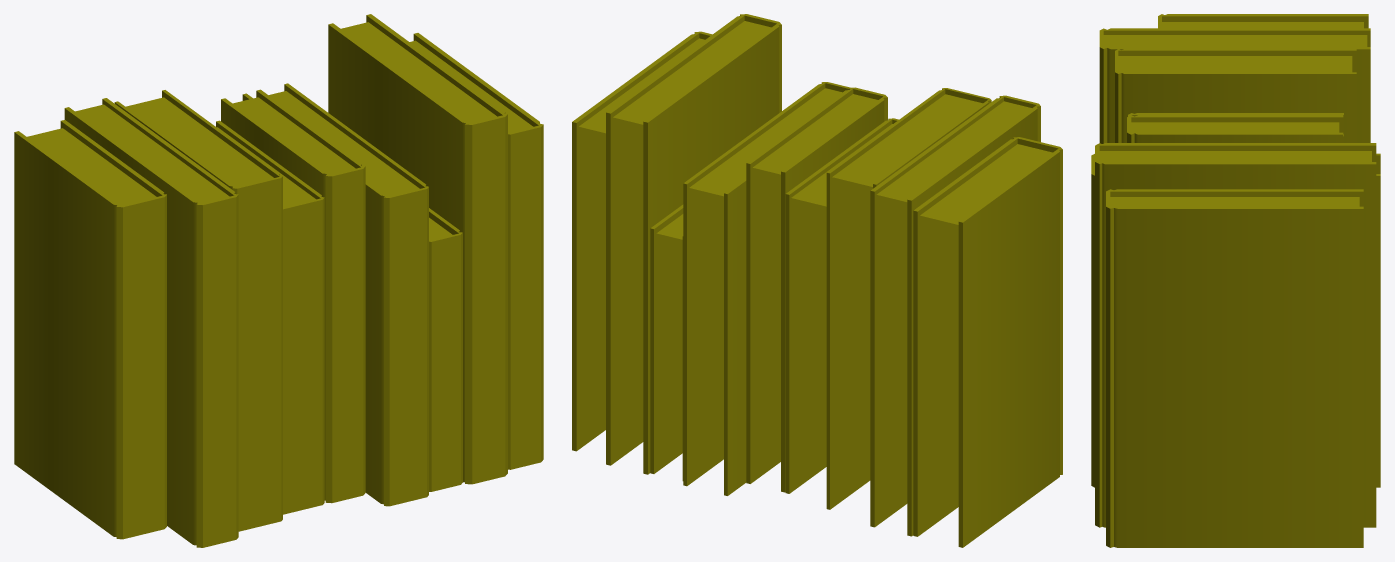
The model's file is HalloweenRoomA_BooksI.fbx.
3 views of the same model, side by side, from view 1: azimuth 30°, elevation 25°; view 2: azimuth 150°, elevation 25°; view 3: azimuth 270°, elevation 25° (orthographic). The views are drawn at different scales.
Visible parts, largest first — view 1: HalloweenRoomA_BooksI; view 2: HalloweenRoomA_BooksI; view 3: HalloweenRoomA_BooksI.
Part boxes in pixels (x1,y1,x2,y2): HalloweenRoomA_BooksI: [14, 14, 543, 547]; HalloweenRoomA_BooksI: [572, 14, 1062, 547]; HalloweenRoomA_BooksI: [1091, 14, 1380, 547].
Bounding box in the file's own units: 32.06 × 27.43 × 19.77.
